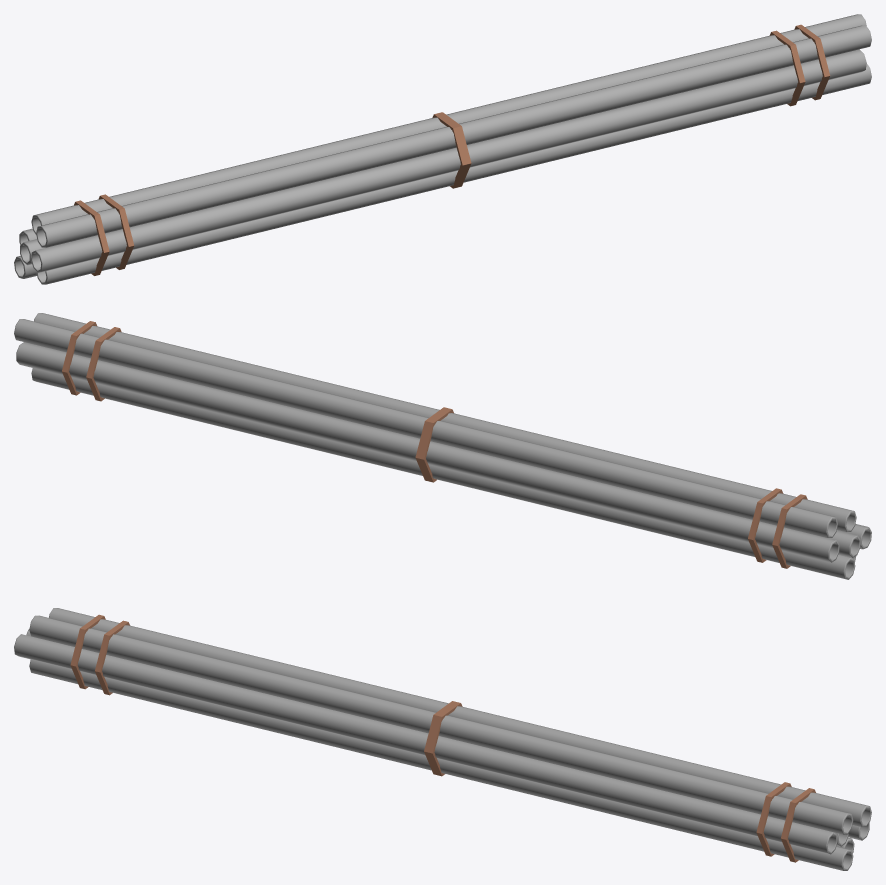
Rendered from crude_pipeStack.fbx.
3 renders of one model, top to bottom at view 1: azimuth 30°, elevation 25°; view 2: azimuth 150°, elevation 25°; view 3: azimuth 330°, elevation 25°, orthographic.
Visible parts, largest first — view 1: metalPipe5, metalPipe7, metalPipe, metalPipe8, band1, band, band2; view 2: metalPipe4, metalPipe8, metalPipe2, metalPipe7, band, band1, band2, metalPipe3; view 3: metalPipe5, metalPipe7, metalPipe, metalPipe8, band1, band, band2.
Boxes of the visible parts, x1,y1,x2,y2 form: metalPipe5: [31, 49, 866, 272]; metalPipe7: [36, 25, 871, 247]; metalPipe: [36, 63, 871, 284]; metalPipe8: [31, 14, 866, 234]; band1: [74, 24, 830, 275]; band: [98, 30, 805, 269]; band2: [432, 112, 471, 188]; metalPipe4: [16, 342, 839, 562]; metalPipe8: [14, 319, 837, 538]; metalPipe2: [31, 368, 855, 579]; metalPipe7: [34, 313, 856, 531]; band: [86, 327, 783, 562]; band1: [62, 321, 807, 568]; band2: [415, 407, 453, 482]; metalPipe3: [828, 530, 860, 557]; metalPipe5: [14, 634, 837, 854]; metalPipe7: [29, 615, 853, 834]; metalPipe: [29, 659, 853, 870]; metalPipe8: [49, 608, 871, 826]; band1: [70, 614, 815, 862]; band: [95, 620, 791, 856]; band2: [424, 701, 462, 776].
Size of the model in its own units: 191 by 13.05 by 15.07.
